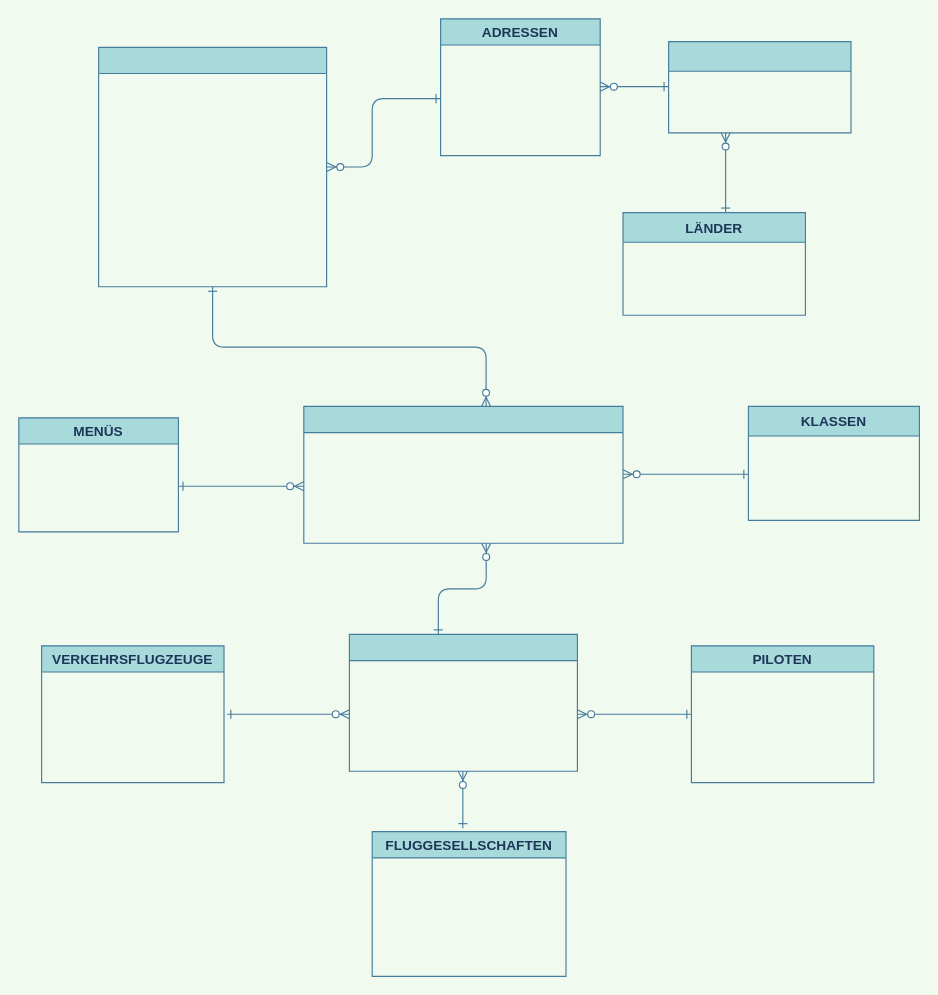
Image size: 938x995. Some labels were removed from this diagram. Each missing label, with the centre of its shape:
"FLÜGE" belongs at (462,702).
"PASSAGIER_FLUG" belongs at (463,474).
"PASSAGIERE" belongs at (212,166).
"STÄDTE" belongs at (759,86).
